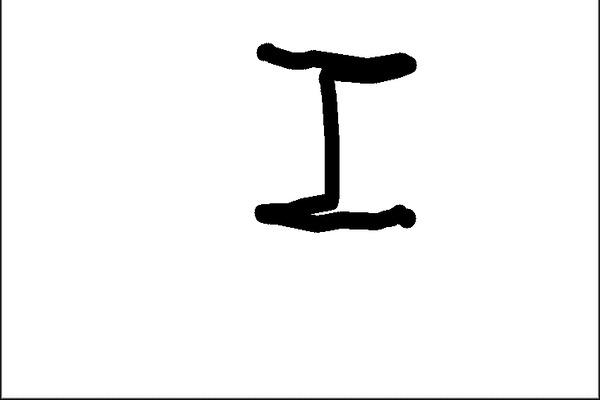i: (241, 32, 426, 236)
